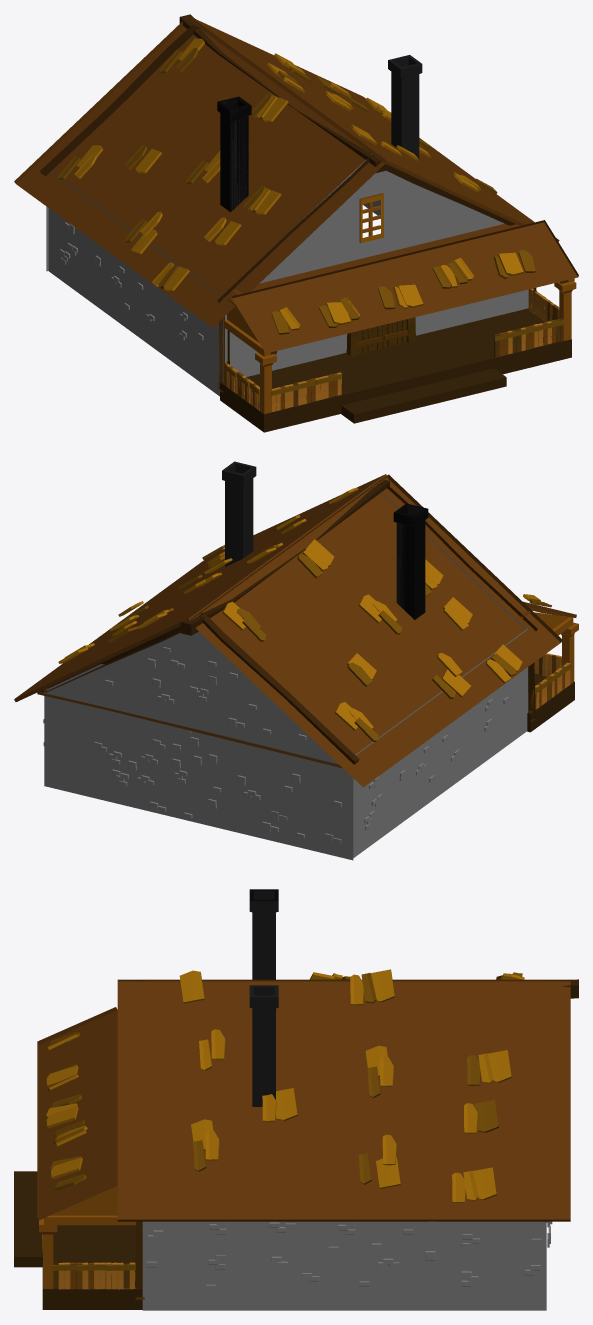
The model's file is Propaganda.fbx.
3 renders of one model, top to bottom at view 1: azimuth 30°, elevation 25°; view 2: azimuth 150°, elevation 25°; view 3: azimuth 270°, elevation 25°, orthographic. The views are drawn at different scales.
Visible parts, largest first — view 1: Cube.339; view 2: Cube.339; view 3: Cube.339.
Part boxes in pixels (bbox=[...]): Cube.339: bbox=[14, 14, 578, 432]; Cube.339: bbox=[14, 461, 578, 860]; Cube.339: bbox=[14, 889, 578, 1310].
Size of the model in its own units: 920 by 609 by 1113.
